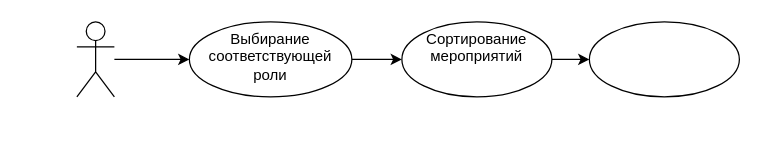
Some shapes in this 761 by 145 pixel diagram are drawn without their labels. Here are the shapes that lost their labels. From the top down, the centre of each, then its label:
At point (95, 59): "Претендент-участник".
At point (663, 59): "Создание запроса на мероприятие".
